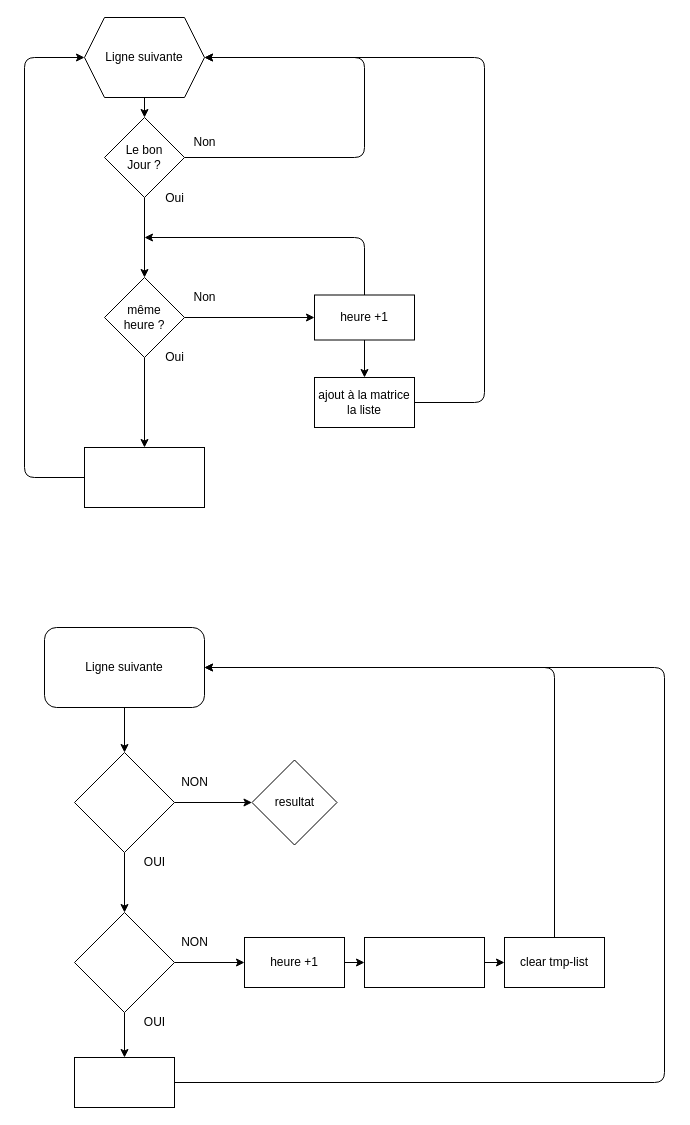
This 690x1125 diagram has some shape labels left out. Each missing label, with the centre of its shape:
Ajout à la liste: (144,477)
Bon jour ?: (124,802)
Bonne heure ?: (124,962)
hourl-list + tmp-list: (424,962)
tmp-list + row: (124,1082)
